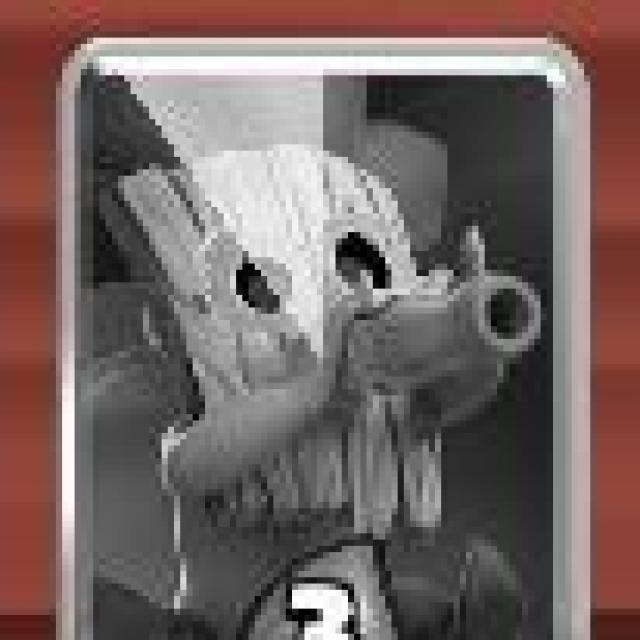Dart_Goblin: (43, 27, 596, 640)
